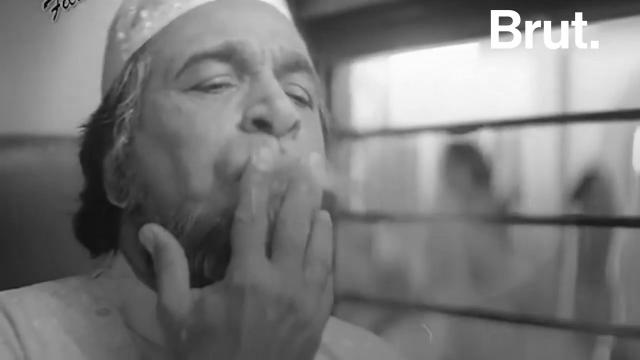spit: (235, 135, 457, 284)
